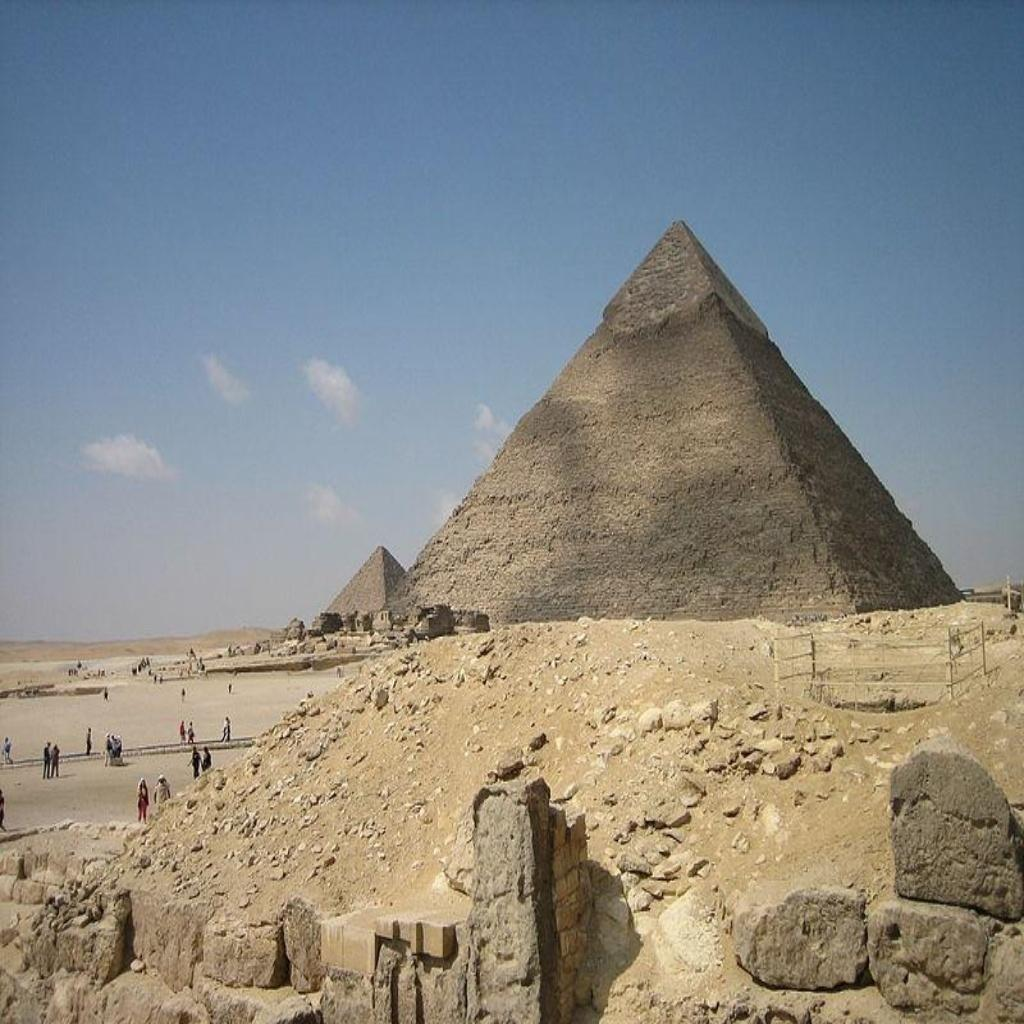Great Pyramids of Giza: (316, 208, 965, 628)
